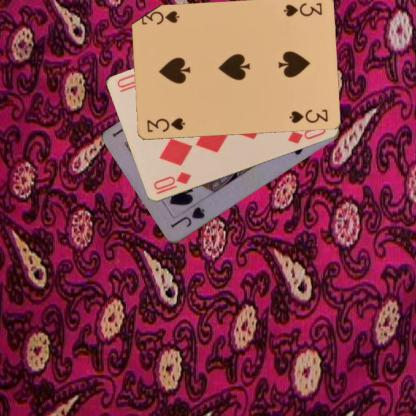10d: (151, 169, 192, 192)
3s: (280, 0, 324, 19), (144, 115, 186, 134)
Js: (168, 204, 206, 230)
